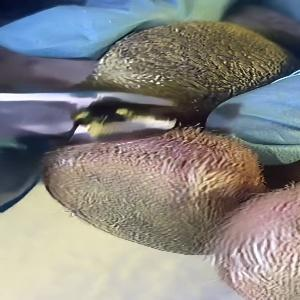keratosis: (86, 13, 294, 101)
